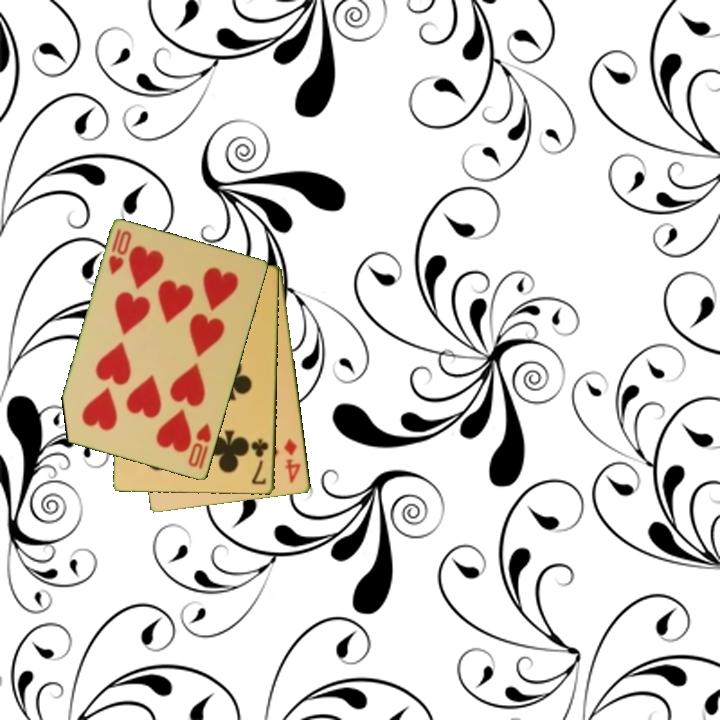10h: (105, 225, 135, 278), (185, 420, 214, 472)
4d: (281, 435, 304, 486)
7c: (248, 435, 271, 488)
